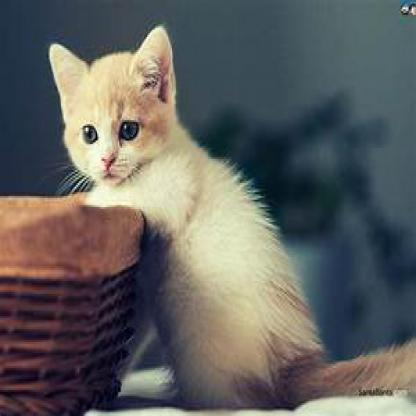cat: (51, 44, 414, 400)
